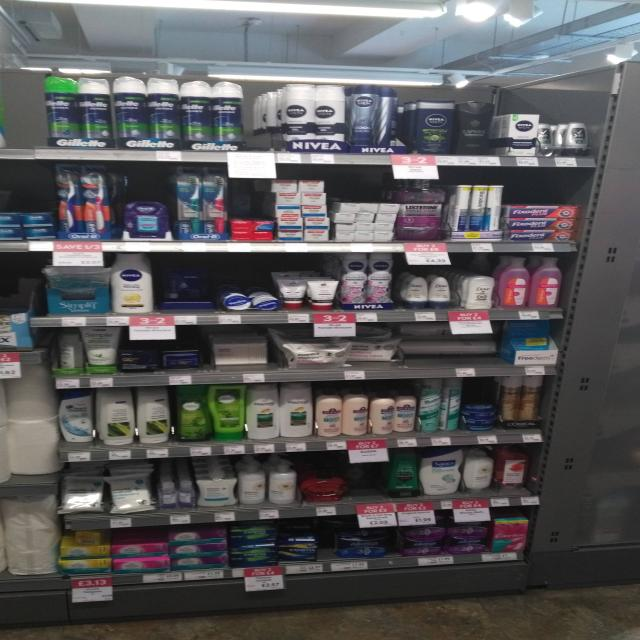unorganised: (270, 177, 331, 241), (330, 195, 401, 241), (403, 339, 504, 362), (57, 390, 94, 449), (495, 446, 530, 496), (462, 449, 496, 498), (375, 83, 400, 148), (333, 531, 390, 559), (51, 328, 84, 376), (348, 338, 402, 365), (276, 534, 320, 562), (161, 346, 205, 373), (370, 393, 397, 436), (441, 379, 462, 432), (159, 481, 196, 509), (486, 185, 504, 235), (453, 184, 471, 234)
